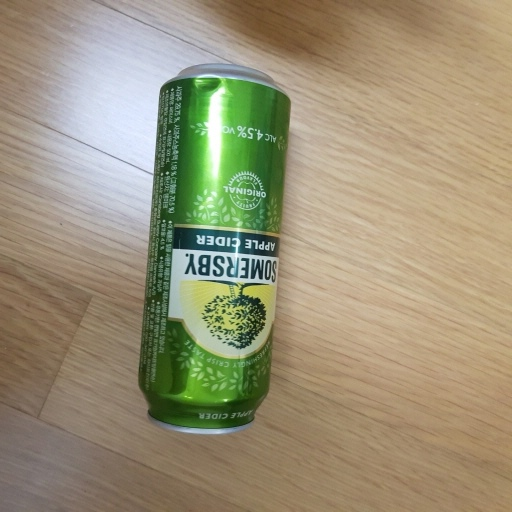Metal_0: (130, 60, 295, 436)
